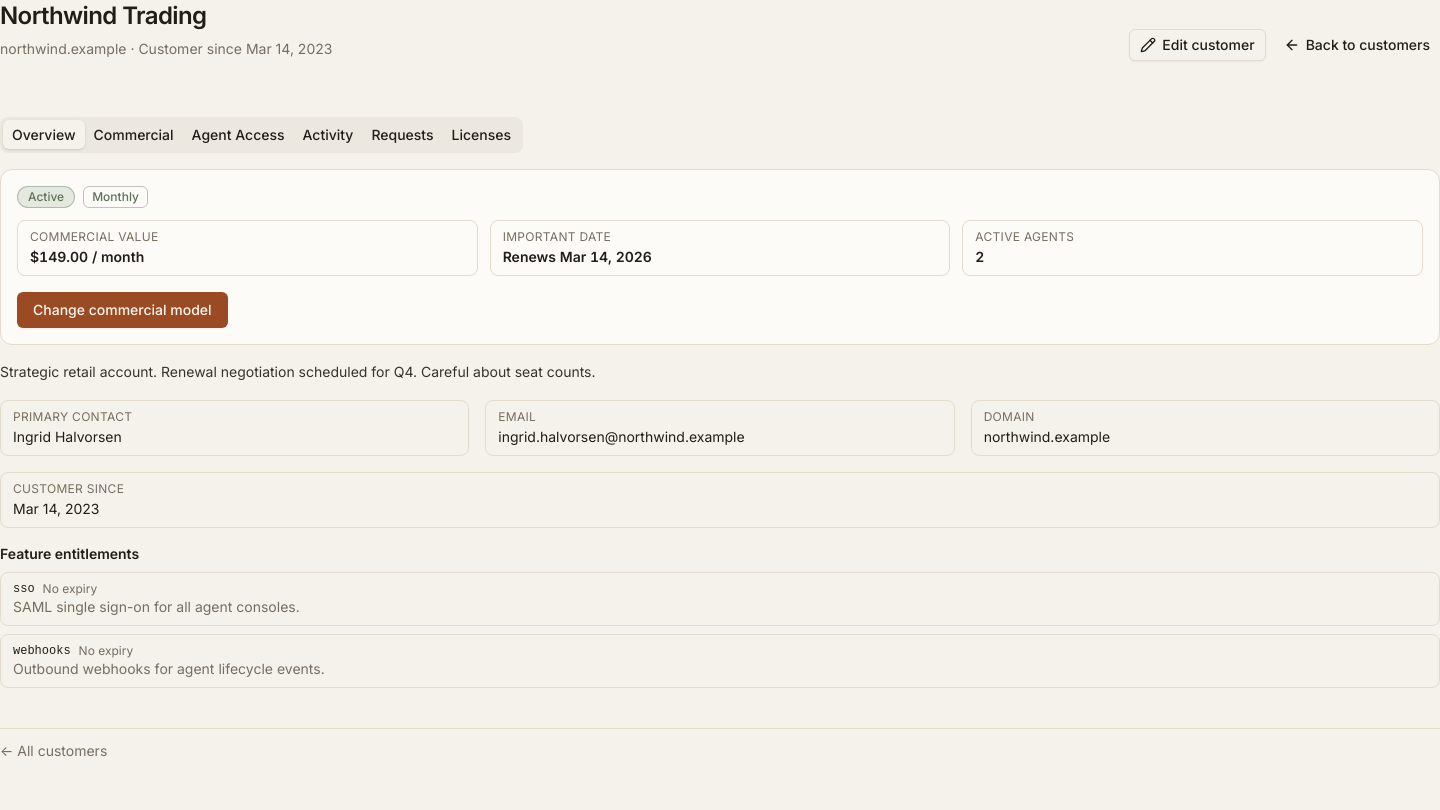
Scenario: CustomerProfilePage › terminates the arrangement with the exact confirmation copy and revokes grants
Click the tab with test id "tab-commercial".
click(134, 135)  # box left=84, top=120, right=182, bottom=149
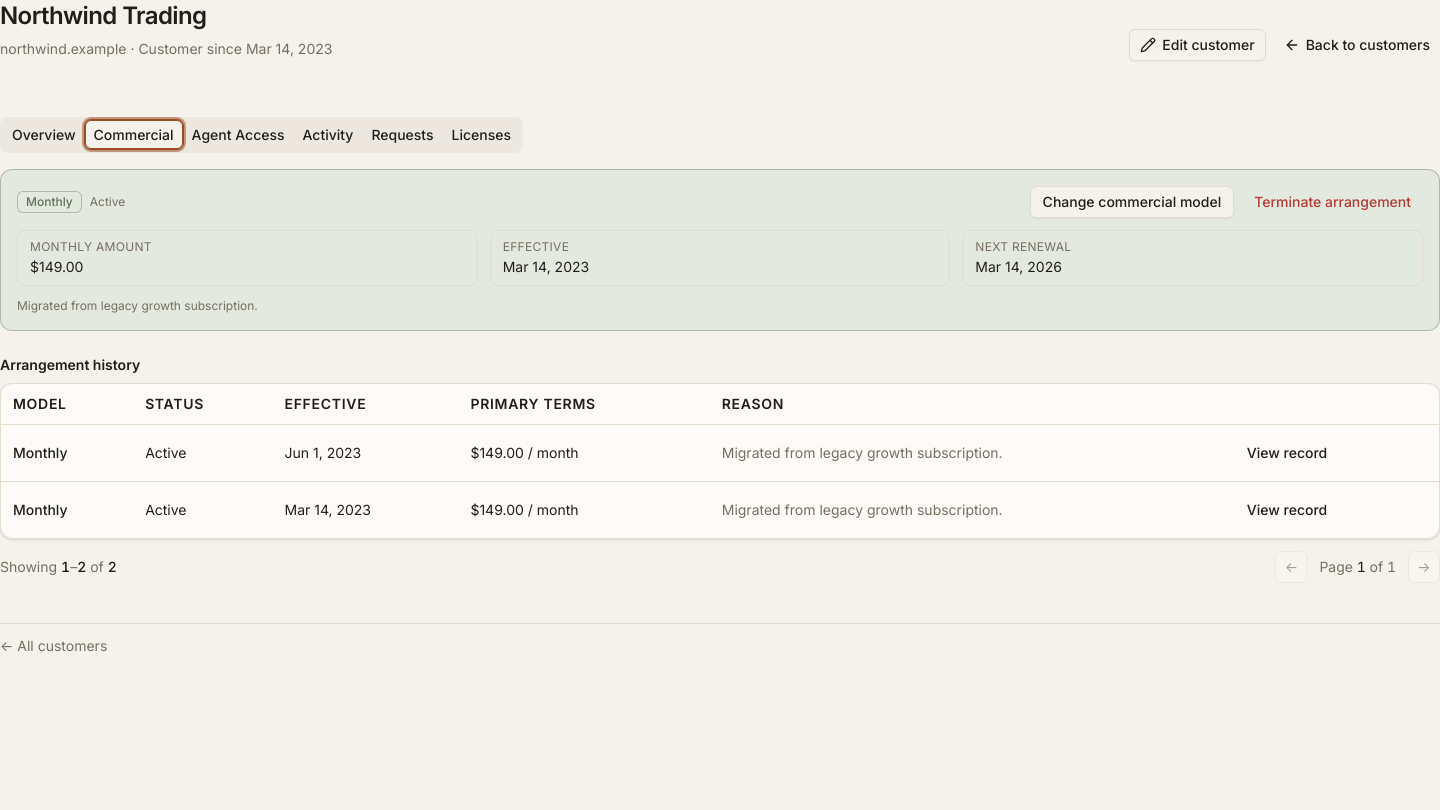
Click the button with test id "terminate-arrangement".
click(1333, 202)  # box left=1242, top=186, right=1423, bottom=218
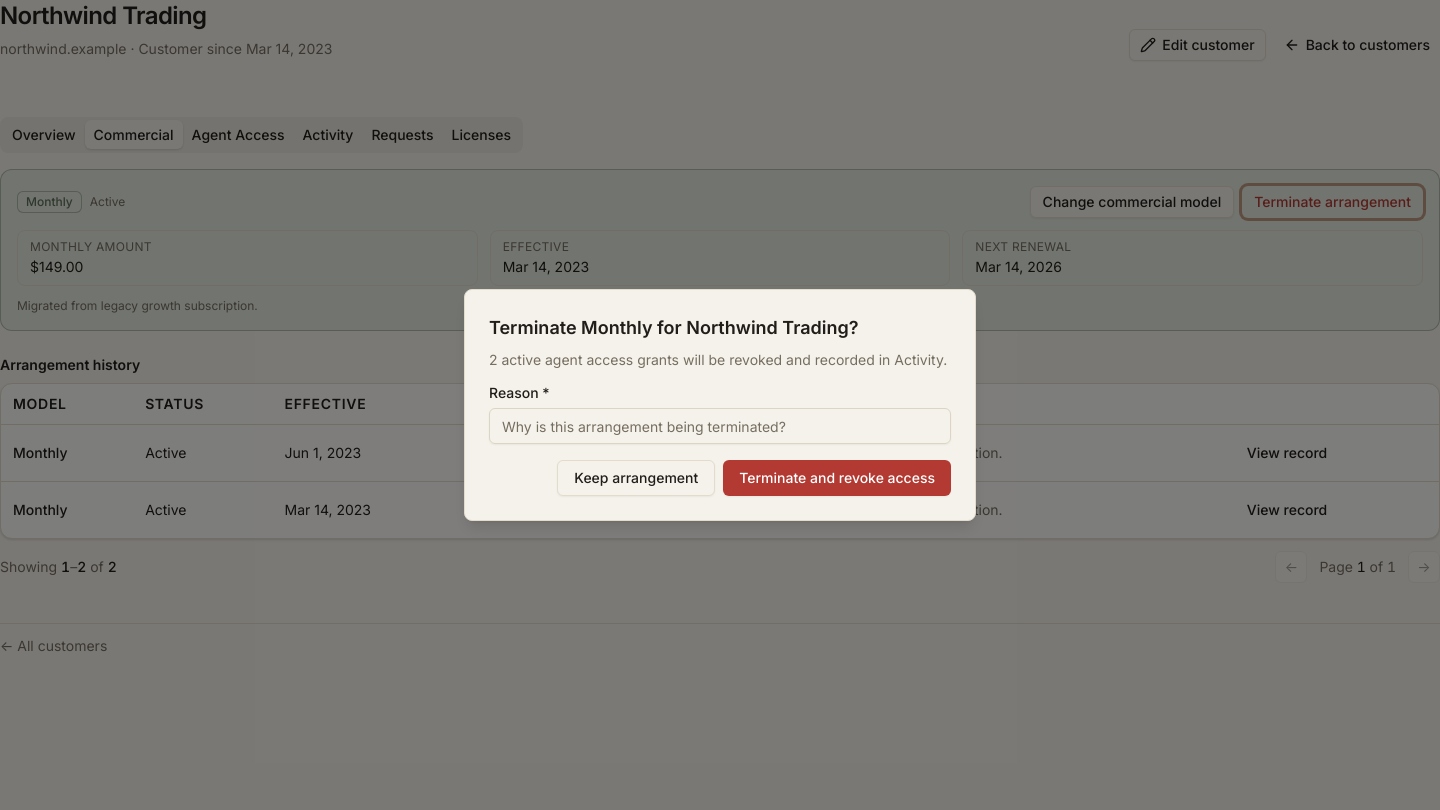
Expected: the heading "Terminate Monthly for Northwind Trading?" is shown, left=489, top=317, right=859, bottom=338
Expected: the text "2 active agent access grants will be revoked and recorded in Activity." is shown, left=489, top=350, right=951, bottom=370
Type "Closeout" into the field with test id "terminate-reason".
click(720, 426); type("Closeout")  # box left=489, top=408, right=951, bottom=444
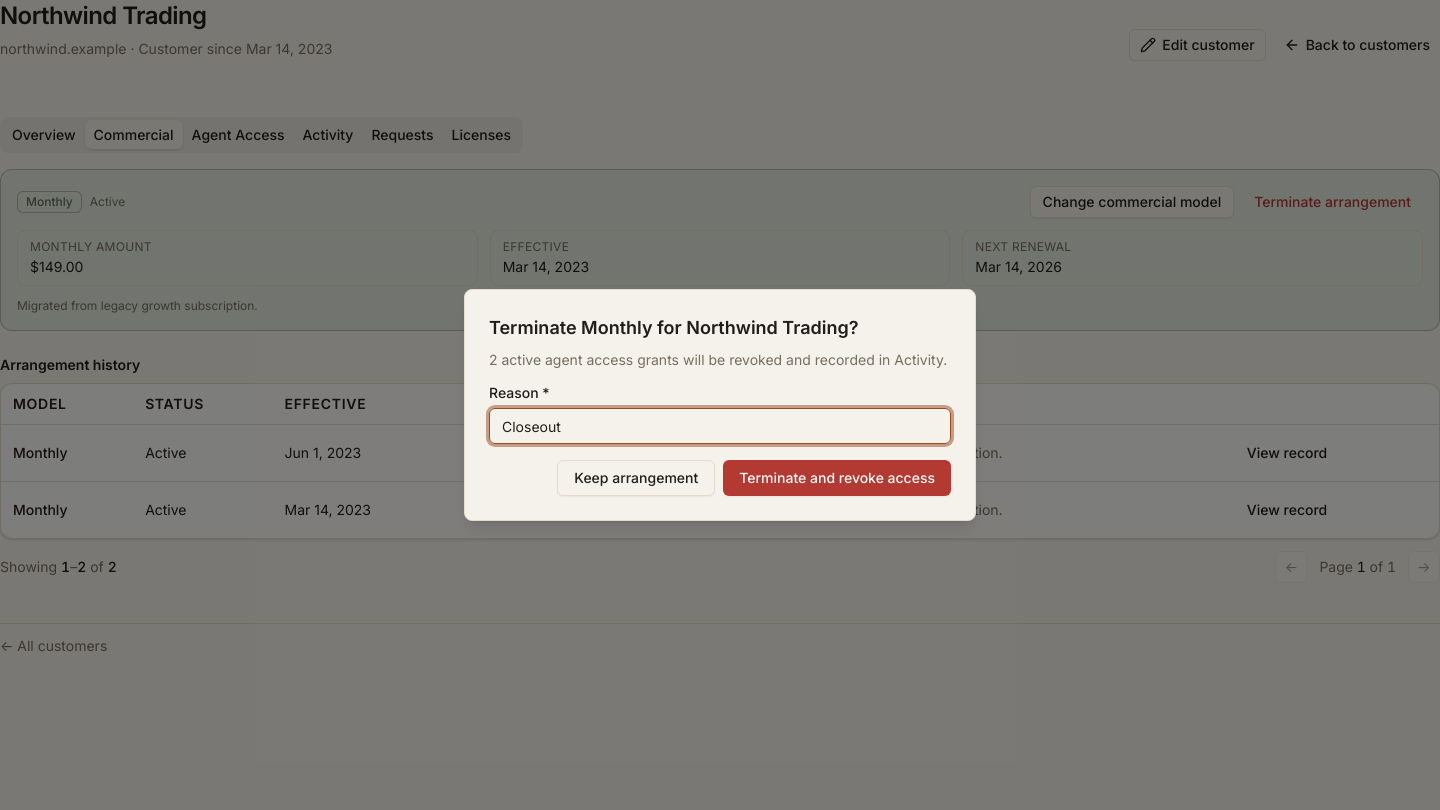
Click the button "Terminate and revoke access".
click(837, 478)  # box left=723, top=460, right=951, bottom=496
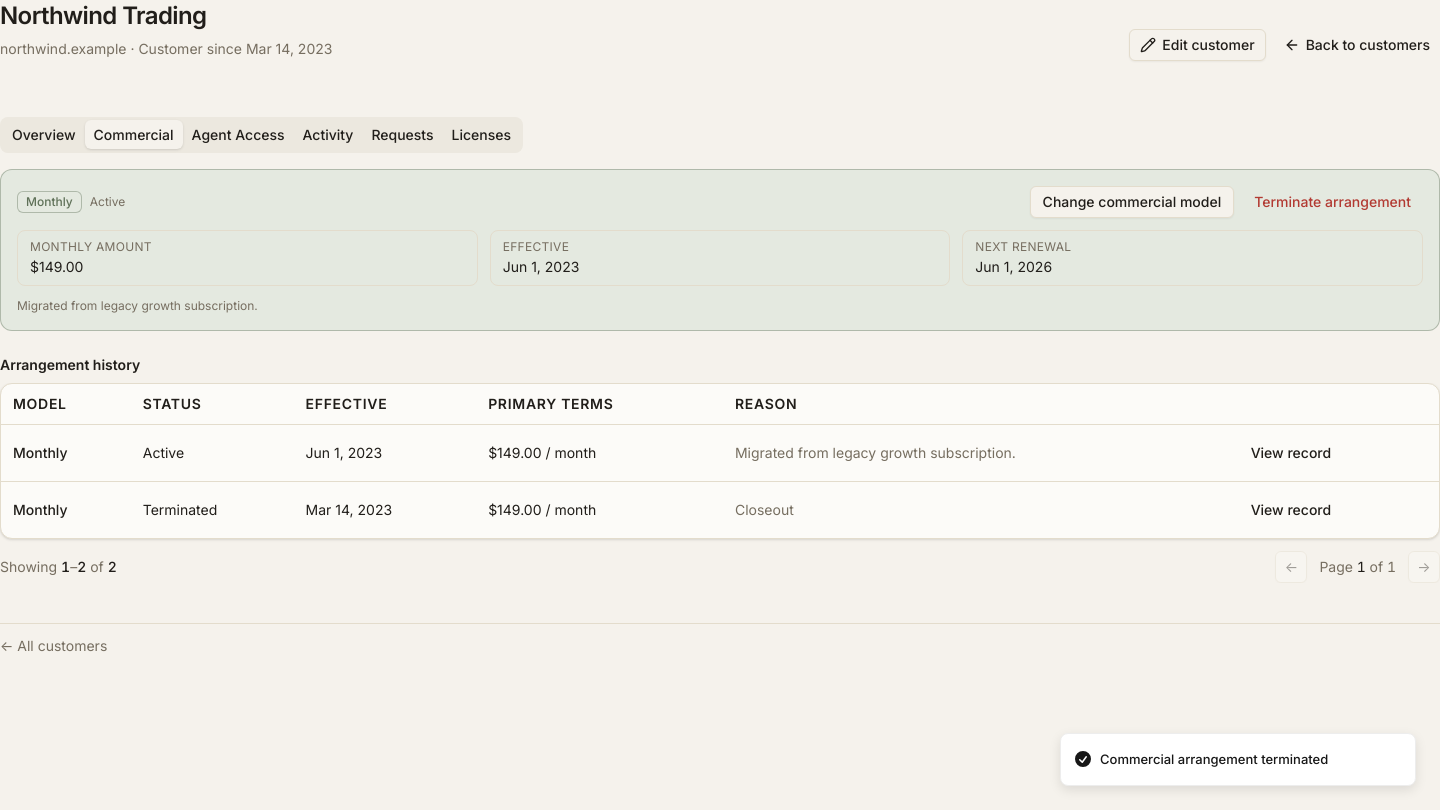
Expected: the dialog is gone
